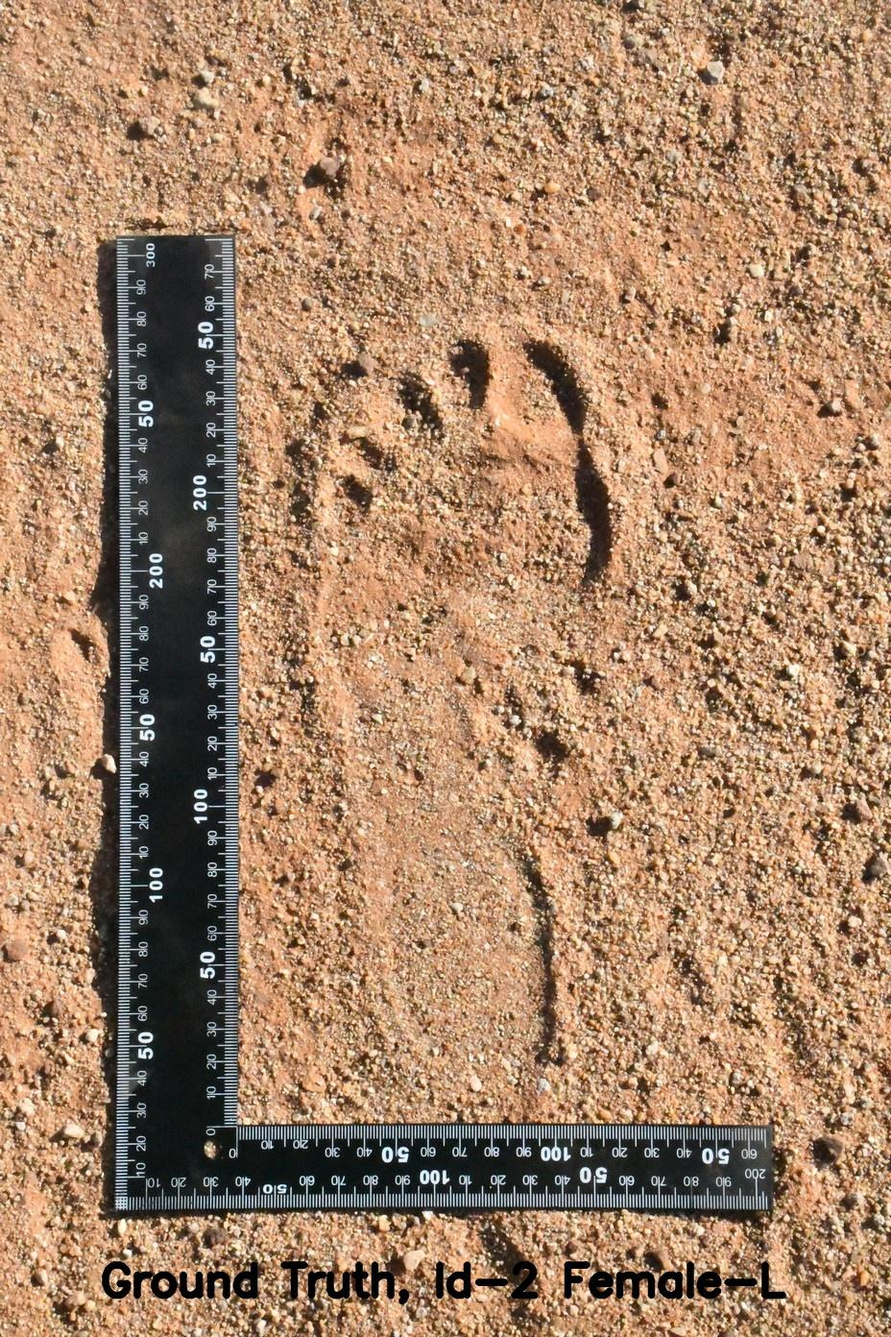human_footprint: (282, 247, 641, 1127)
